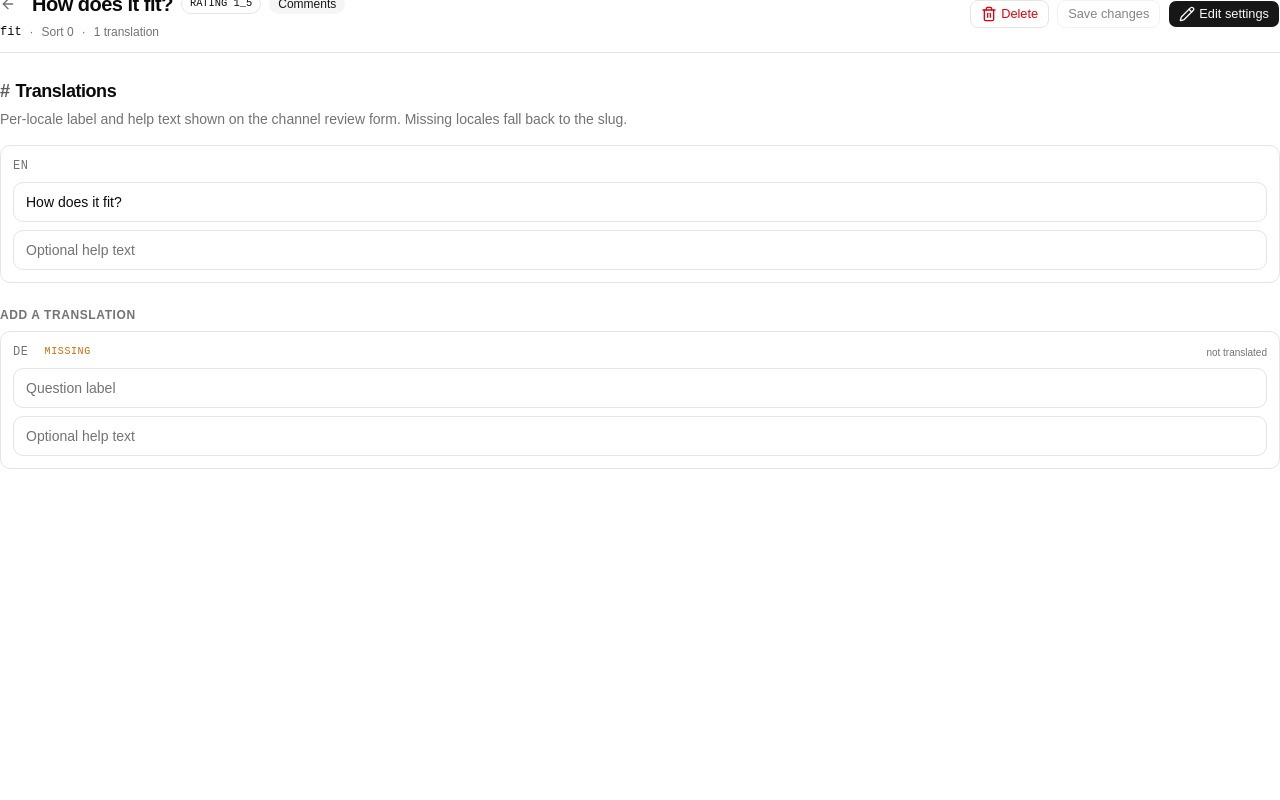
Test: ReviewQuestionDetail delete › keeps the dialog open and shows a refused delete
Click the button "Delete": coordinates (1010, 14) [970,0,1049,28]
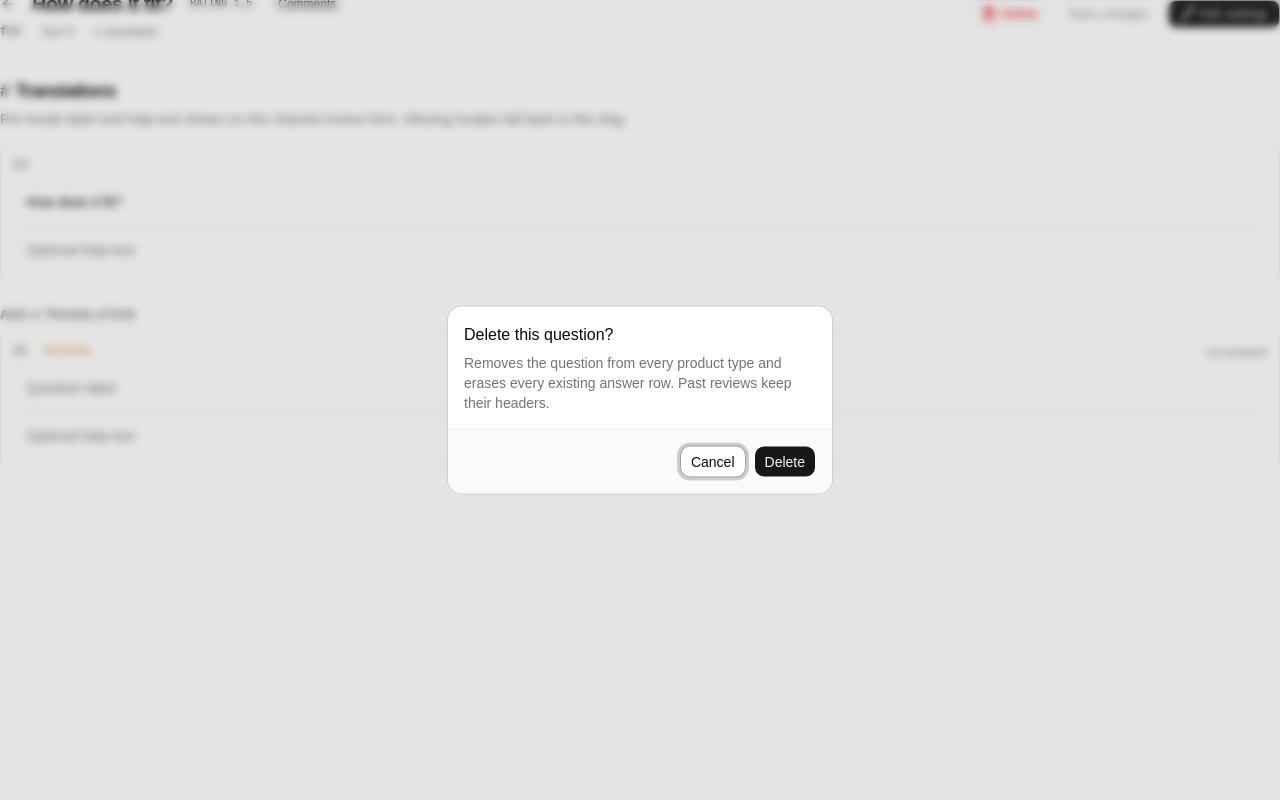
Click the button "Delete": coordinates (785, 462) [754,446,816,478]
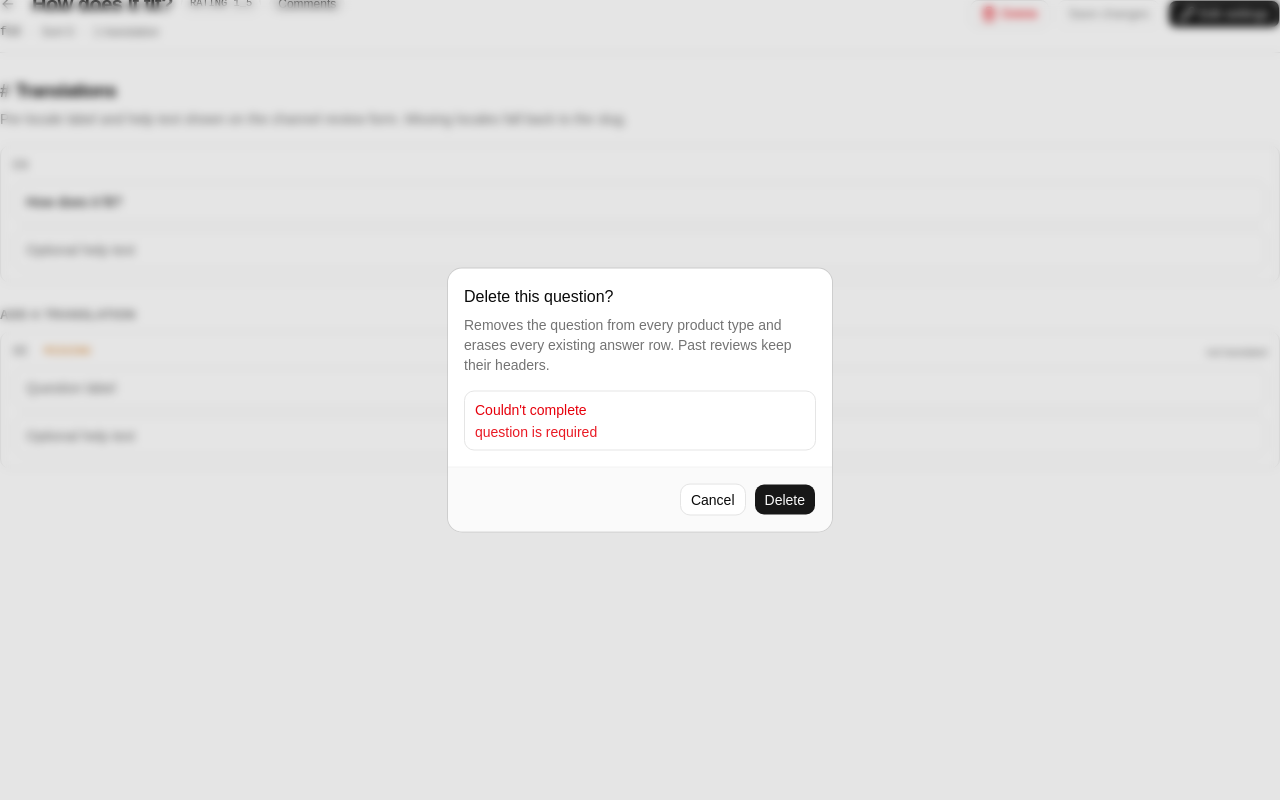
Check: the text "question is required" is shown, box [475,424,597,440]
